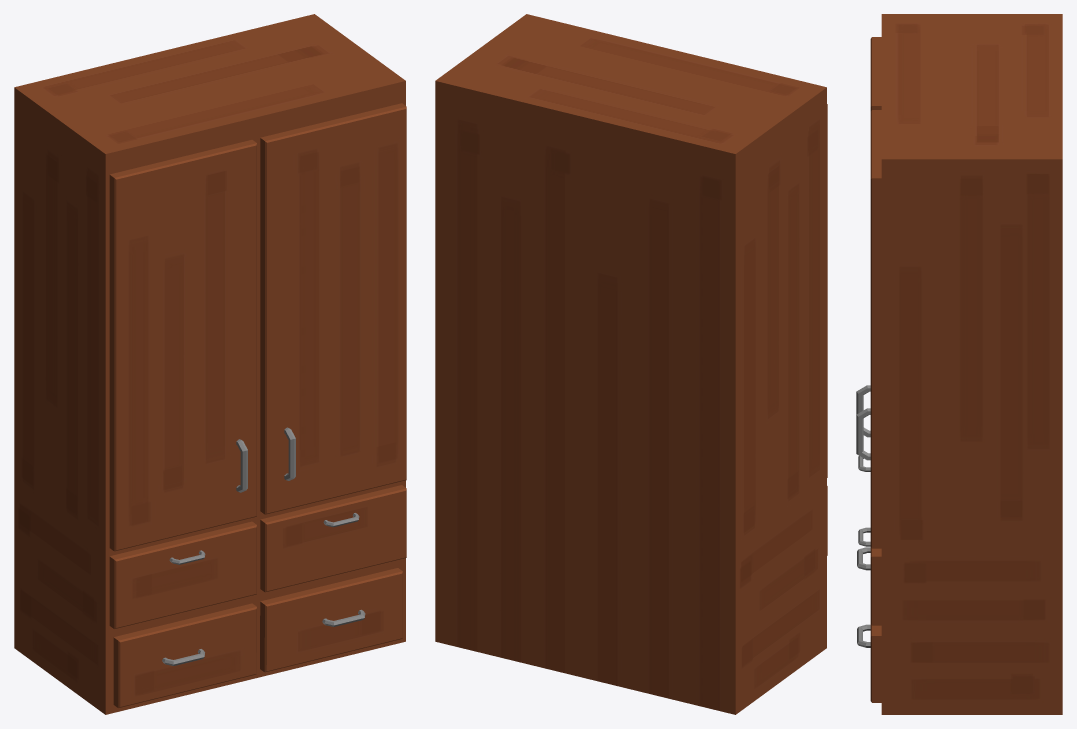
Rendered from armadio ospedale.FBX.
3 views of the same model, side by side, from view 1: azimuth 30°, elevation 25°; view 2: azimuth 150°, elevation 25°; view 3: azimuth 270°, elevation 25° (orthographic).
Parts seen in each view (by area): view 1: armadio ospedale; view 2: armadio ospedale; view 3: armadio ospedale.
Part boxes in pixels (x1=…): armadio ospedale: x1=14, y1=14, x2=406, y2=714; armadio ospedale: x1=435, y1=14, x2=827, y2=714; armadio ospedale: x1=856, y1=14, x2=1062, y2=714.
Size of the model in its own units: 1.12 by 2 by 0.674.
